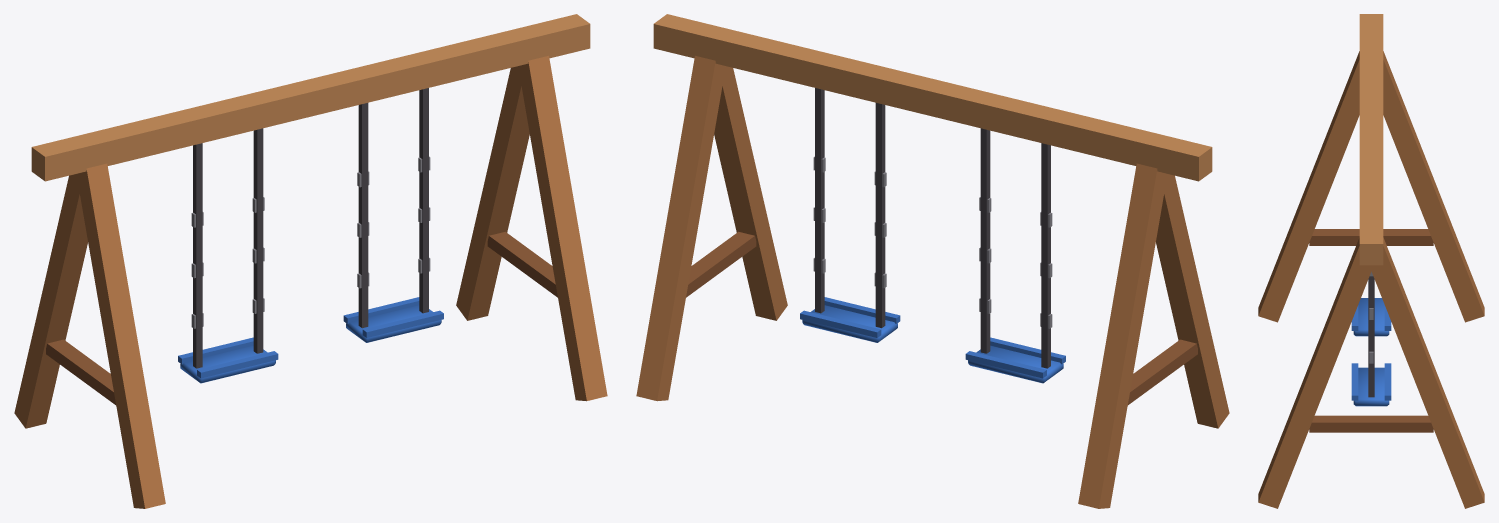
File: playground_swings.glb
3 renders of one model, left to right at view 1: azimuth 30°, elevation 25°; view 2: azimuth 150°, elevation 25°; view 3: azimuth 270°, elevation 25°, orthographic. The views are drawn at different scales.
Parts seen in each view (by area): view 1: playground_swings, swing_l, swing_r; view 2: playground_swings, swing_l, swing_r; view 3: playground_swings, swing_r, swing_l.
Part boxes in pixels (x1,y1,x2,y2): playground_swings: (14, 14, 607, 508); swing_l: (178, 128, 278, 383); swing_r: (343, 88, 443, 342); playground_swings: (636, 14, 1229, 508); swing_l: (965, 128, 1065, 383); swing_r: (800, 88, 900, 342); playground_swings: (1258, 14, 1484, 508); swing_r: (1351, 271, 1391, 406); swing_l: (1351, 298, 1391, 336).
Size of the model in its own units: 3.95 by 2.26 by 1.64.
Materials: 1 (1 with a texture image).
